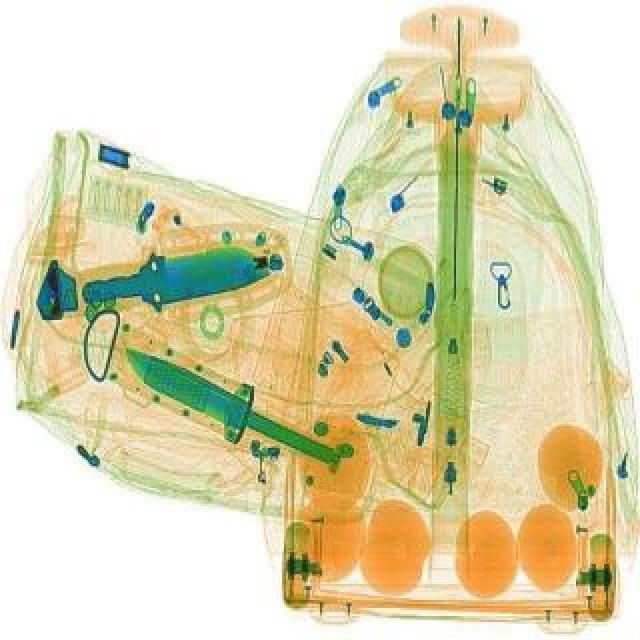knife: (114, 336, 346, 472), (80, 236, 276, 316)
